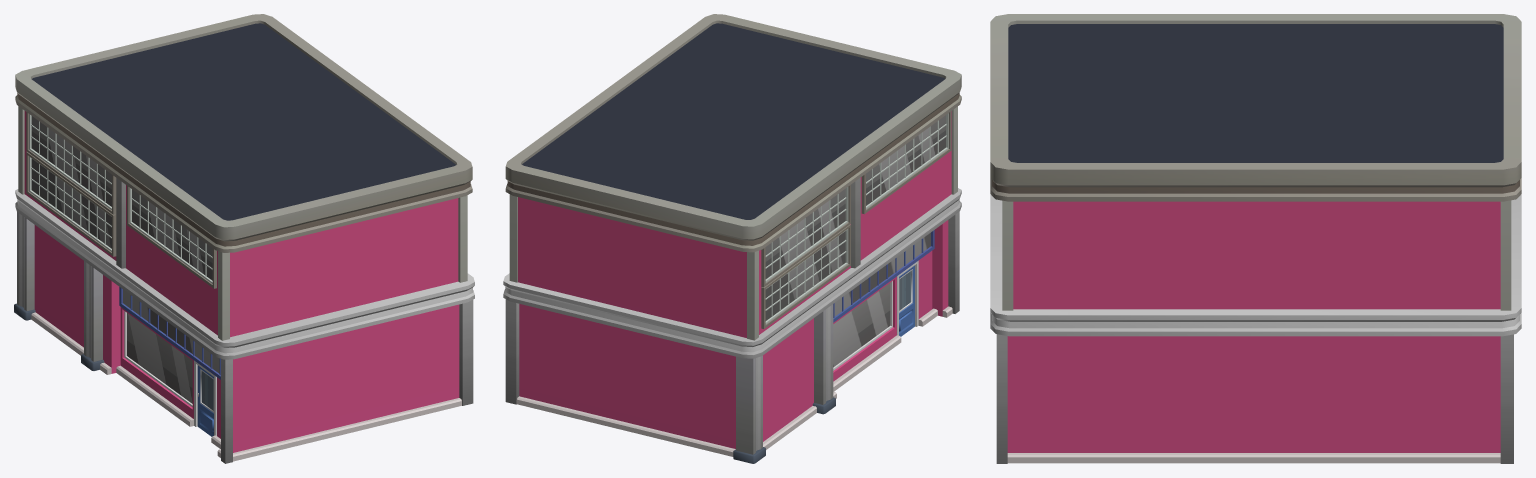
The model's file is Building_11_3_C.fbx.
3 renders of one model, left to right at view 1: azimuth 30°, elevation 25°; view 2: azimuth 150°, elevation 25°; view 3: azimuth 270°, elevation 25°, orthographic. The views are drawn at different scales.
Visible parts, largest first — view 1: Building_11_3_C; view 2: Building_11_3_C; view 3: Building_11_3_C.
Part boxes in pixels (x1,y1,x2,y2): Building_11_3_C: [14, 14, 474, 463]; Building_11_3_C: [503, 14, 961, 463]; Building_11_3_C: [990, 14, 1521, 463].
Bounding box in the file's own units: 814 × 715 × 1163.
